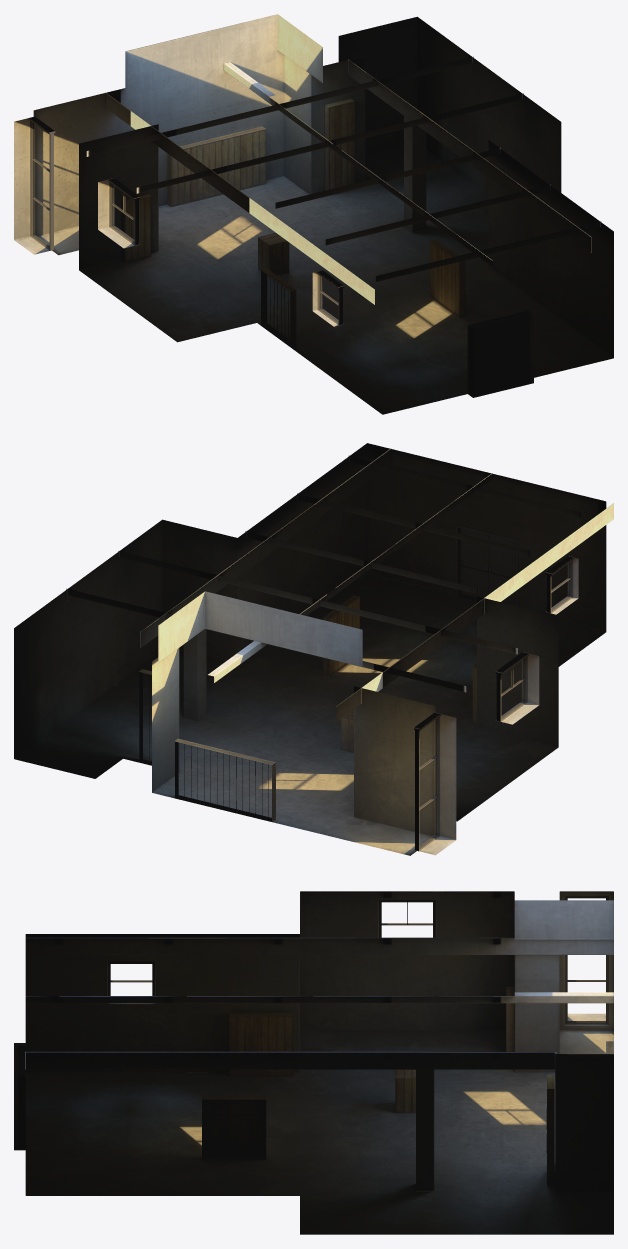
The model's file is gallery.glb.
3 renders of one model, top to bottom at view 1: azimuth 30°, elevation 25°; view 2: azimuth 150°, elevation 25°; view 3: azimuth 270°, elevation 25°, orthographic. The views are drawn at different scales.
Parts seen in each view (by area): view 1: Cube, Cube.006, Cube.009, Cube.012; view 2: Cube, Cube.006, Cube.009, Cube.012; view 3: Cube, Cube.006, Cube.012, Cube.009.
Boxes of the visible parts, bbox=[...] form: Cube: bbox=[14, 14, 613, 414]; Cube.006: bbox=[121, 98, 465, 346]; Cube.009: bbox=[467, 310, 529, 395]; Cube.012: bbox=[29, 116, 344, 325]; Cube: bbox=[14, 443, 613, 855]; Cube.006: bbox=[139, 595, 476, 821]; Cube.009: bbox=[455, 524, 518, 606]; Cube.012: bbox=[414, 556, 574, 851]; Cube: bbox=[14, 891, 613, 1234]; Cube.006: bbox=[202, 986, 613, 1184]; Cube.012: bbox=[108, 895, 608, 1024]; Cube.009: bbox=[15, 1043, 25, 1149].
Size of the model in its own units: 15.41 by 5.95 by 18.02.
Materials: 4 (4 with a texture image).
